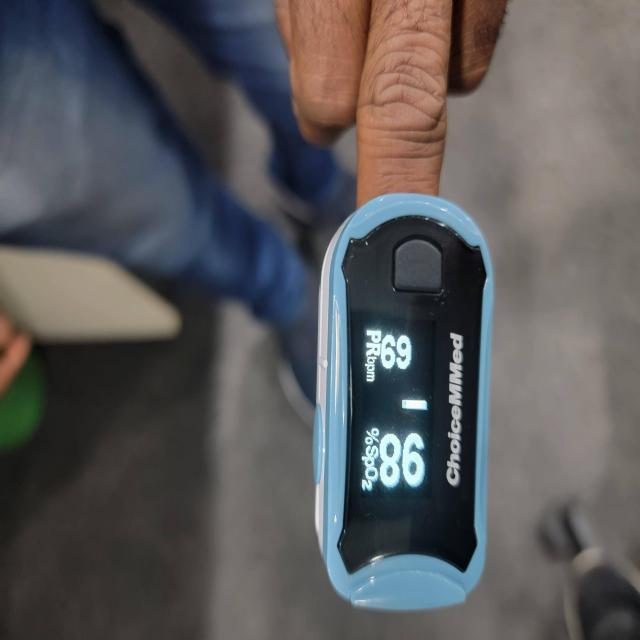spo2: (313, 193, 496, 614)
